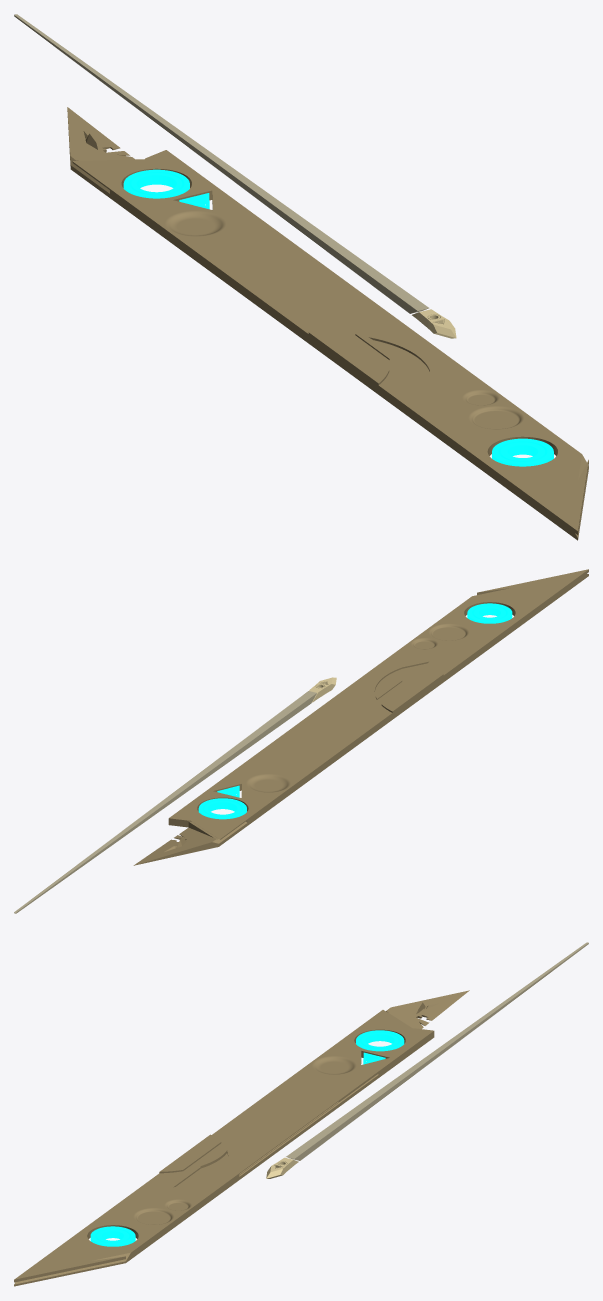
File: skyboard_B.glb
The picture shows the model from 3 angles, top to bottom: view 1: azimuth 30°, elevation 25°; view 2: azimuth 150°, elevation 25°; view 3: azimuth 330°, elevation 25°; orthographic projection. The views are drawn at different scales.
Parts seen in each view (by area): view 1: deck, staff, dart, ornament; view 2: deck, staff, dart; view 3: deck, staff, dart.
Part boxes in pixels (x1=…): deck: x1=67, y1=107, x2=588, y2=540; staff: x1=14, y1=14, x2=429, y2=313; dart: x1=123, y1=169, x2=553, y2=466; ornament: x1=412, y1=309, x2=456, y2=338; deck: x1=133, y1=569, x2=588, y2=865; staff: x1=14, y1=691, x2=316, y2=913; dart: x1=198, y1=603, x2=512, y2=819; deck: x1=14, y1=990, x2=469, y2=1286; staff: x1=286, y1=942, x2=588, y2=1160; dart: x1=90, y1=1030, x2=404, y2=1246.
Bounding box in the file's own units: 3.15 × 0.3644 × 30.4.
